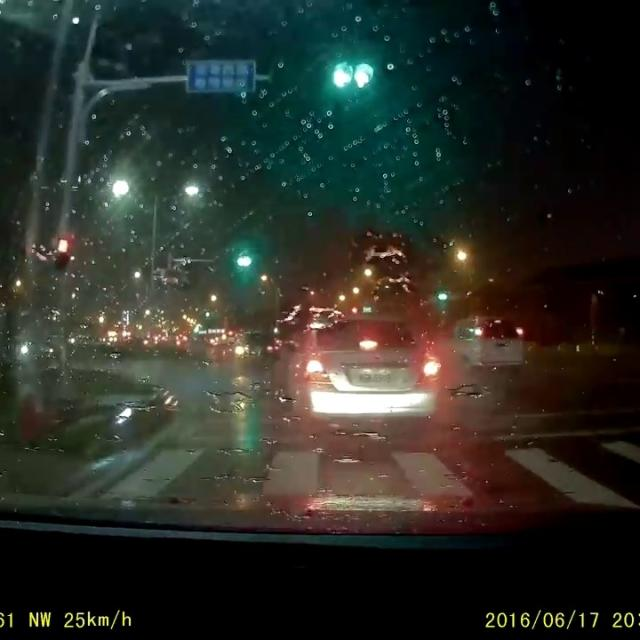Car: (279, 311, 439, 425), (441, 314, 532, 369), (234, 329, 280, 370)
